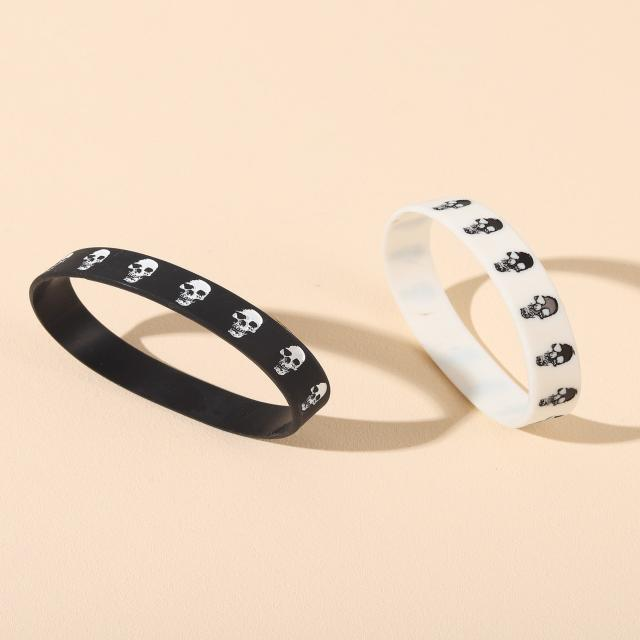bracelet: (10, 206, 368, 519), (355, 140, 640, 469)
